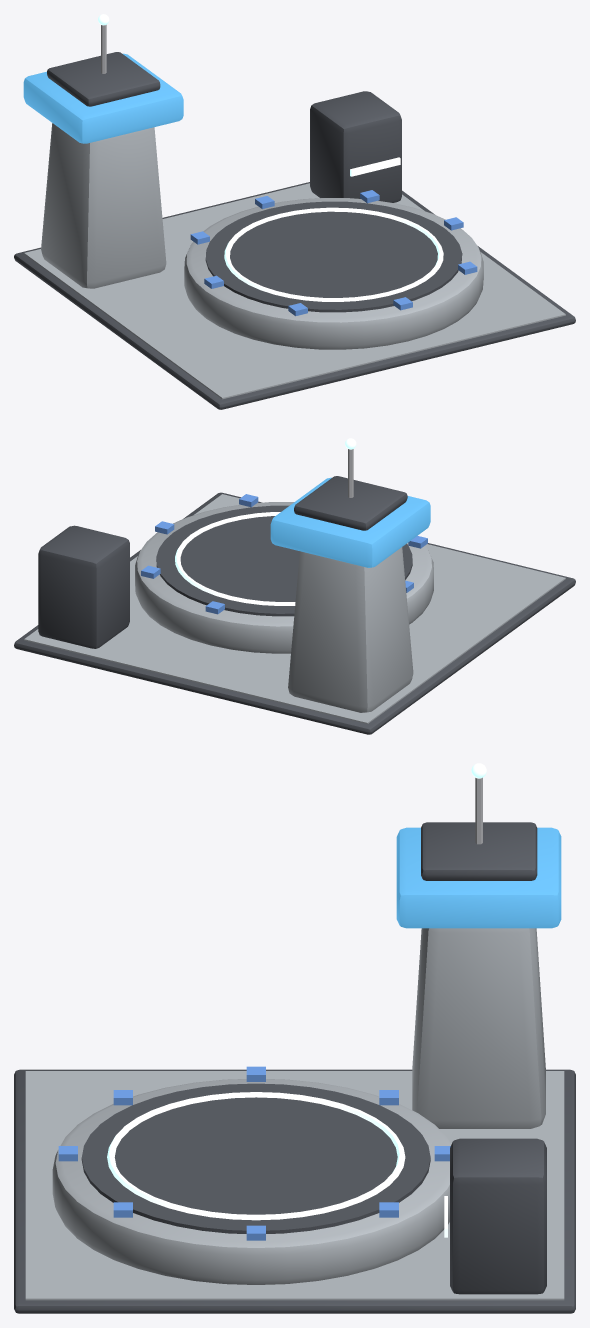
Rendered from starport_hum.glb.
3 views of the same model, one above another, from view 1: azimuth 30°, elevation 25°; view 2: azimuth 150°, elevation 25°; view 3: azimuth 270°, elevation 25° (orthographic). The views are drawn at different scales.
Visible parts, largest first — view 1: starport_hum; view 2: starport_hum; view 3: starport_hum.
Boxes of the visible parts, bbox=[...] form: starport_hum: bbox=[14, 14, 575, 409]; starport_hum: bbox=[14, 438, 575, 734]; starport_hum: bbox=[14, 763, 575, 1313].
Size of the model in its own units: 2.9 by 2 by 2.9.
